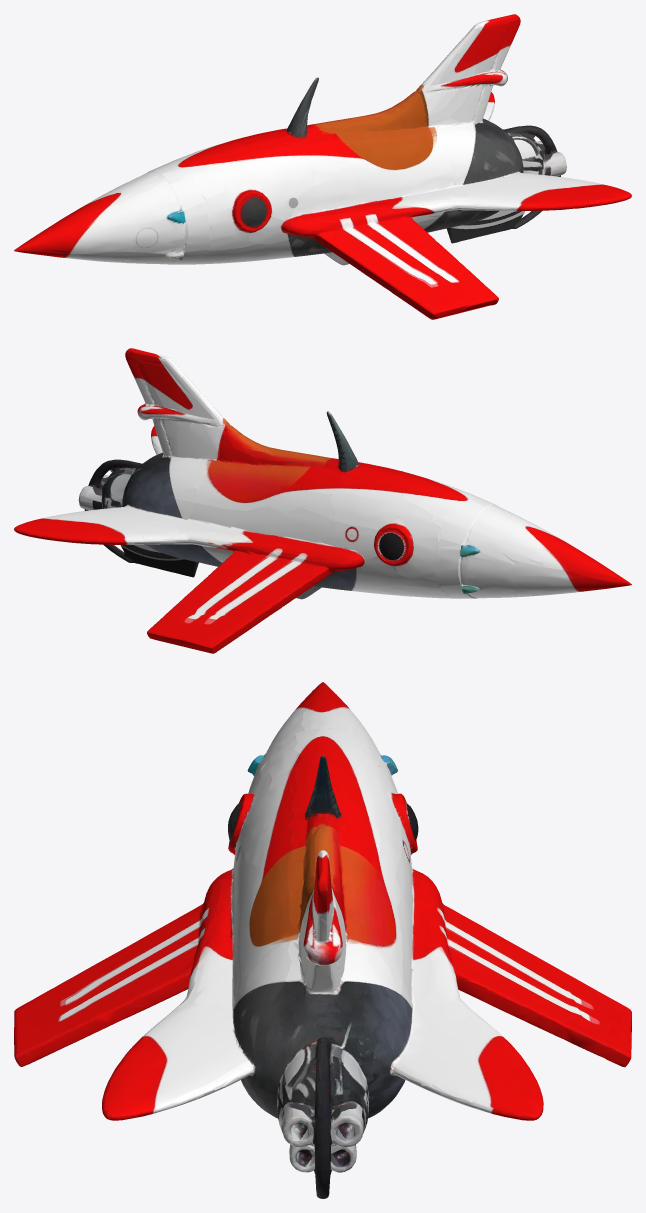
The model's file is veh_rocket.glb.
3 views of the same model, one above another, from view 1: azimuth 30°, elevation 25°; view 2: azimuth 150°, elevation 25°; view 3: azimuth 270°, elevation 25° (orthographic). The views are drawn at different scales.
Bounding box in the file's own units: 1.9 × 0.7104 × 1.25.
Materials: 1 (1 with a texture image).
